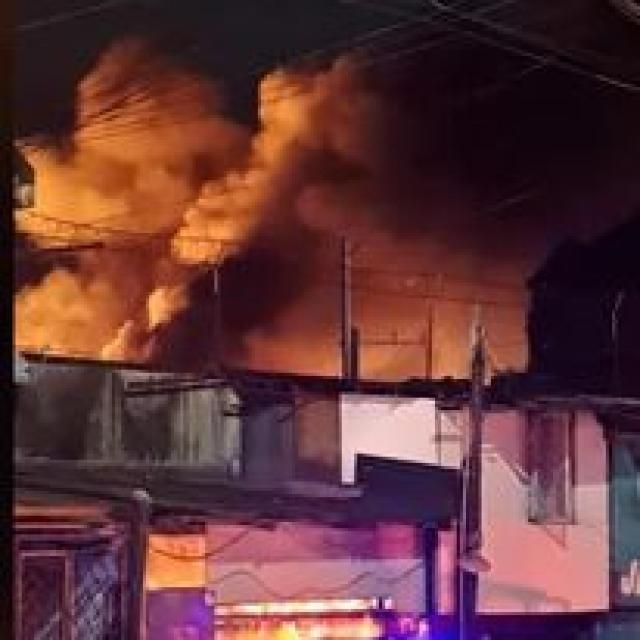Smoke: (258, 72, 624, 225), (19, 231, 339, 367), (48, 65, 260, 229)
